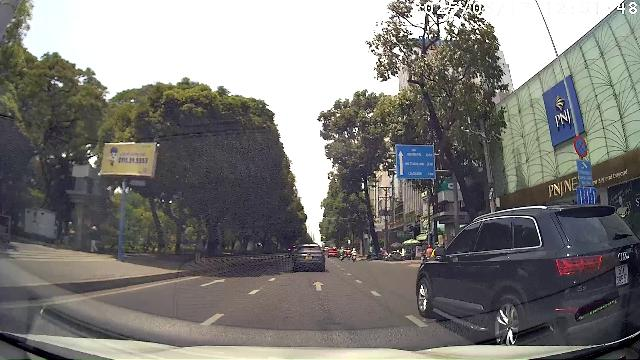130-cam-dung-va-do-xe: (574, 135, 588, 157)
